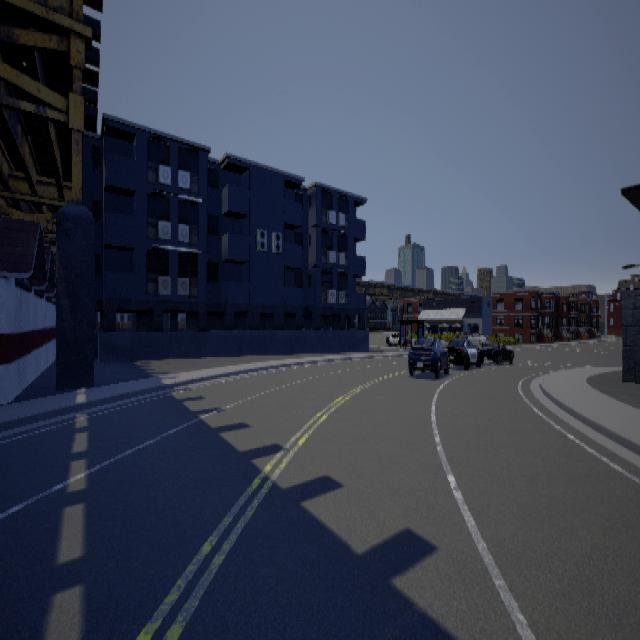vehicle: (407, 332, 451, 379), (445, 325, 485, 374), (477, 330, 524, 369)
